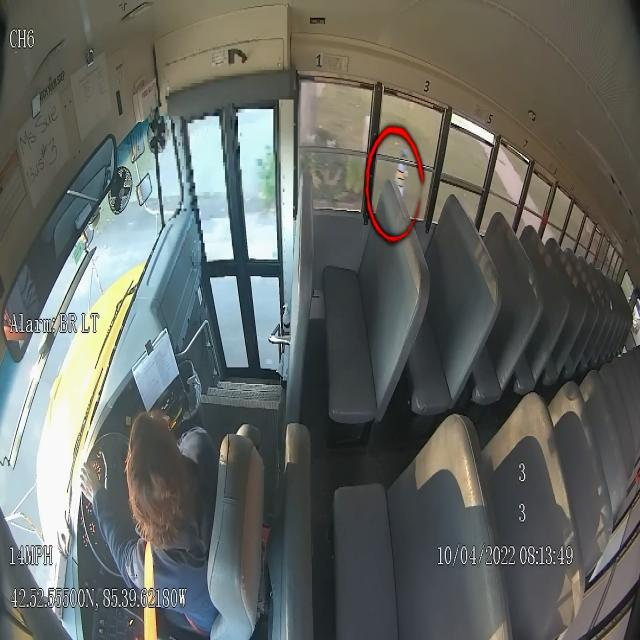bus-door: (181, 107, 281, 376)
